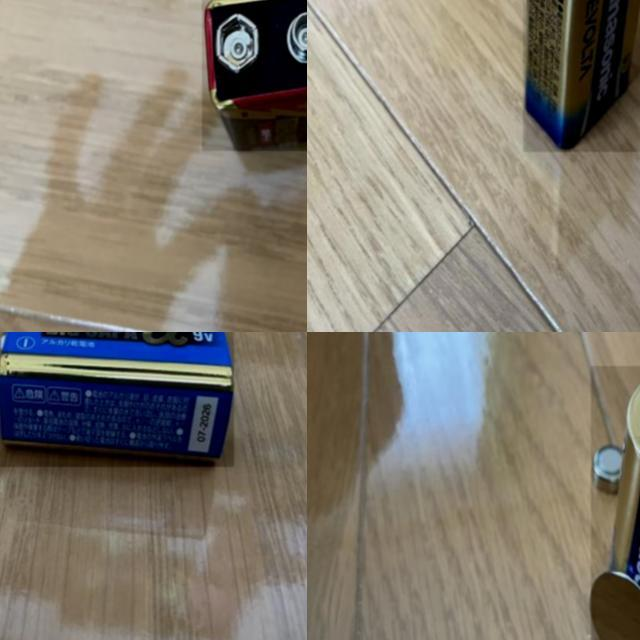9V: (0, 332, 234, 467), (523, 0, 640, 152), (202, 0, 307, 151)
